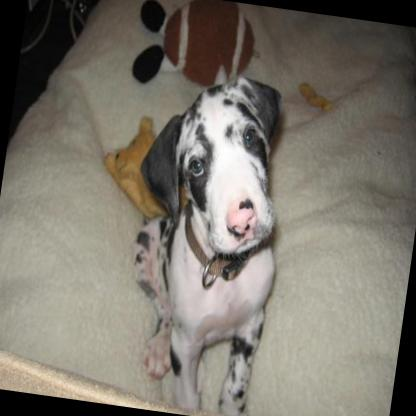Great_Dane: (105, 62, 301, 416)
